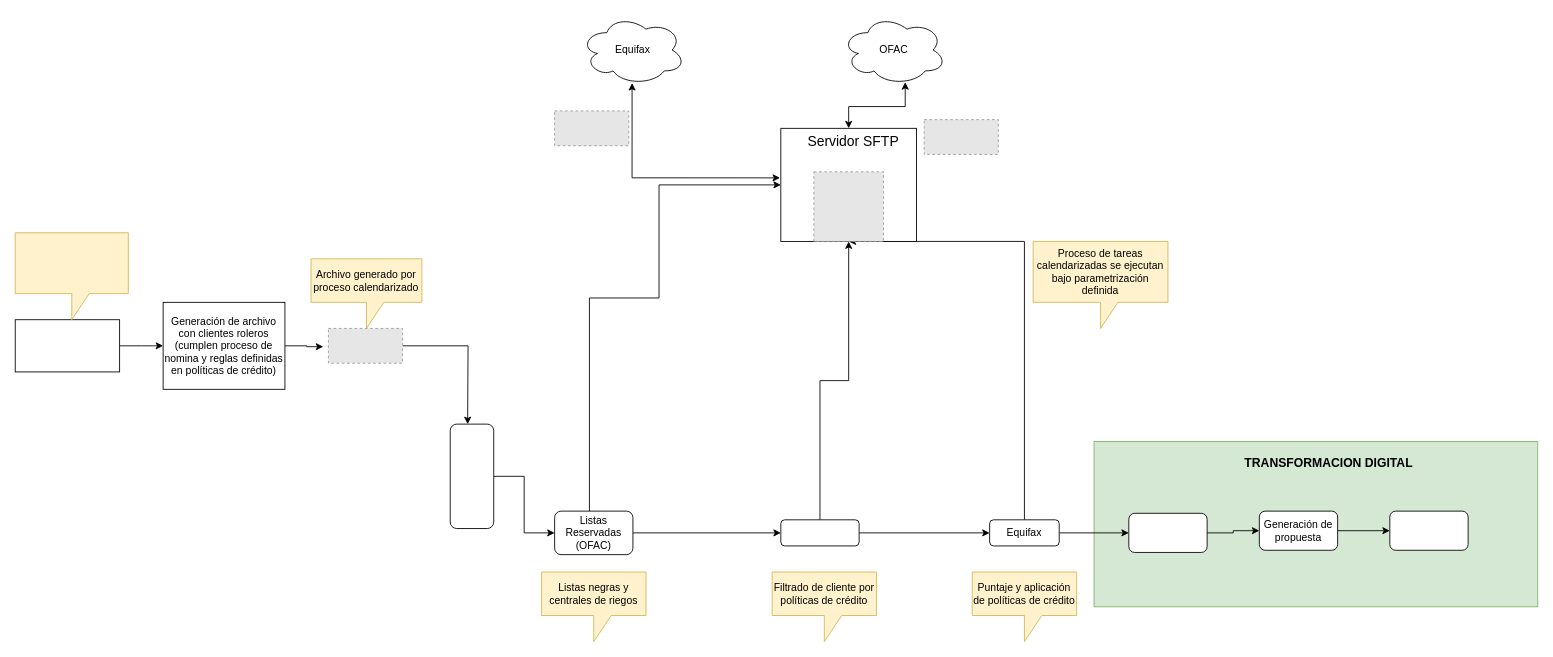
The diagram is 1553 pixels wide and 657 high, and some of its shapes have lost their labels. Grey dashed boxes stand in for pictures. The shapes that lost their labels are listed below. From the top down, each one's box as (x1, y1, x2, y2) in pixels, then its label:
(14, 232, 128, 320): Información empresas Ancla, Cliente Roleros, Acreditación, día de pago
(14, 319, 120, 372): Obtener transacciones de pago de nómina de Omnia
(449, 423, 494, 529): EIBS
(780, 519, 859, 546): Filtros y perfiles
(1128, 512, 1207, 552): Oferta digital
(1389, 510, 1468, 550): Acreditación de la cuenta
